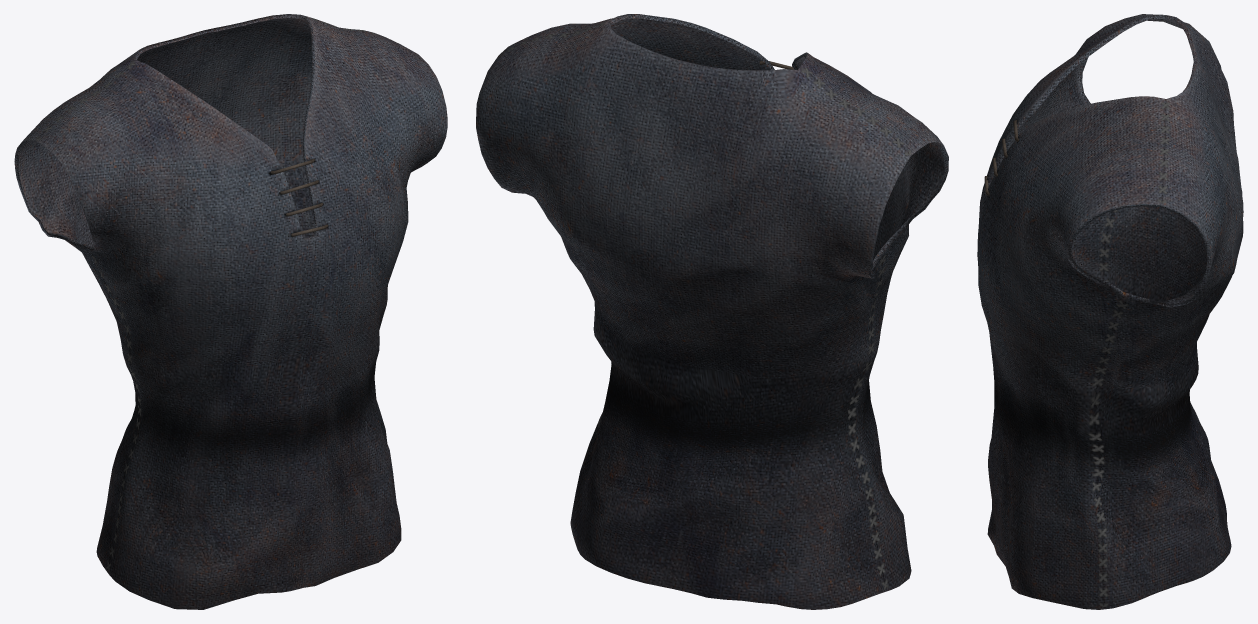
File: shirt preset 1.fbx
3 views of the same model, side by side, from view 1: azimuth 30°, elevation 25°; view 2: azimuth 150°, elevation 25°; view 3: azimuth 270°, elevation 25° (orthographic). The views are drawn at different scales.
Parts seen in each view (by area): view 1: shirt; view 2: shirt; view 3: shirt.
Part boxes in pixels (left/top/right/bottom): shirt: left=14, top=14, right=447, bottom=609; shirt: left=476, top=14, right=948, bottom=609; shirt: left=977, top=14, right=1243, bottom=609.
Size of the model in its own units: 49.77 by 62.63 by 30.41.
